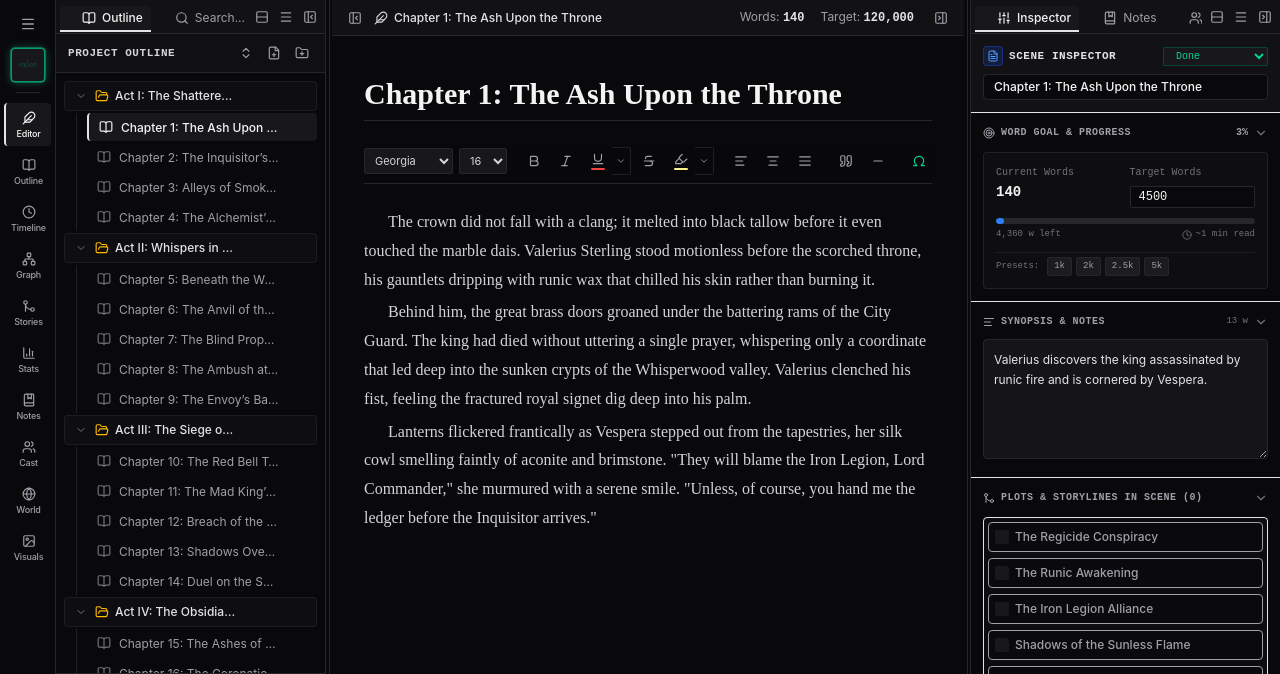
it: App Component › handles persistence error banner display and dismissal
Click the button named "File Menu": (28, 24) x1=14 y1=10 x2=42 y2=38
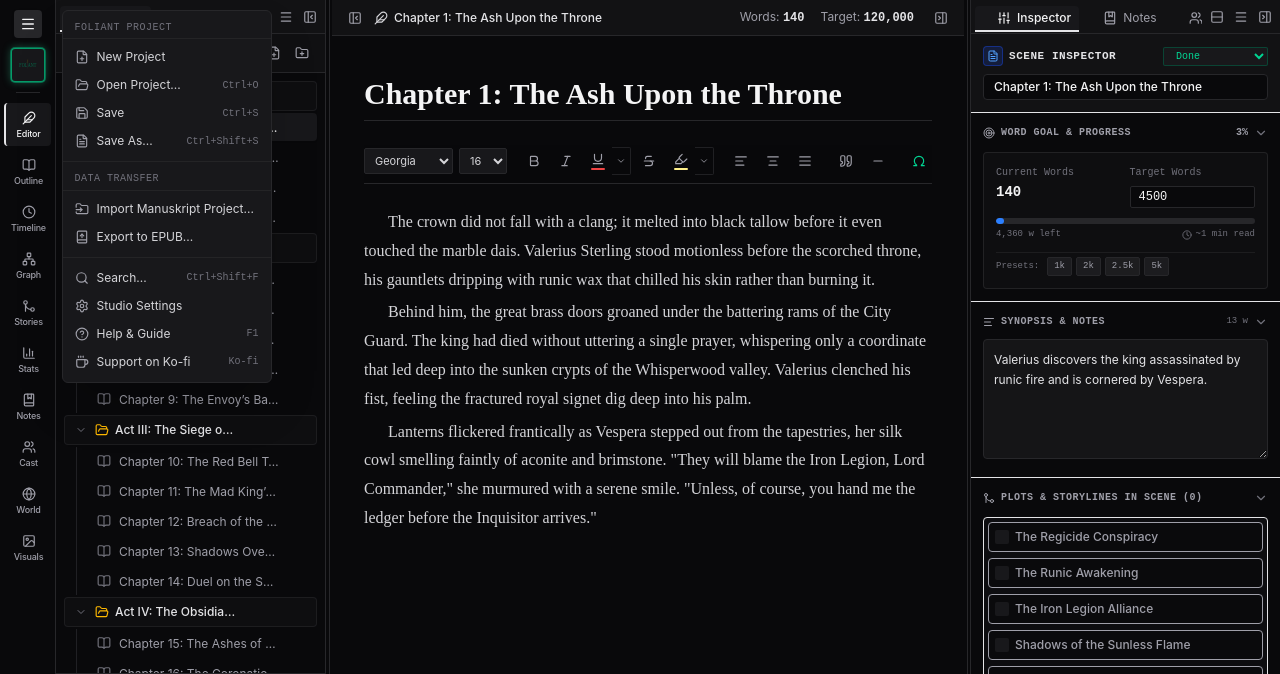
Click the text "Open Project...": (139, 85) x1=96 y1=77 x2=181 y2=93
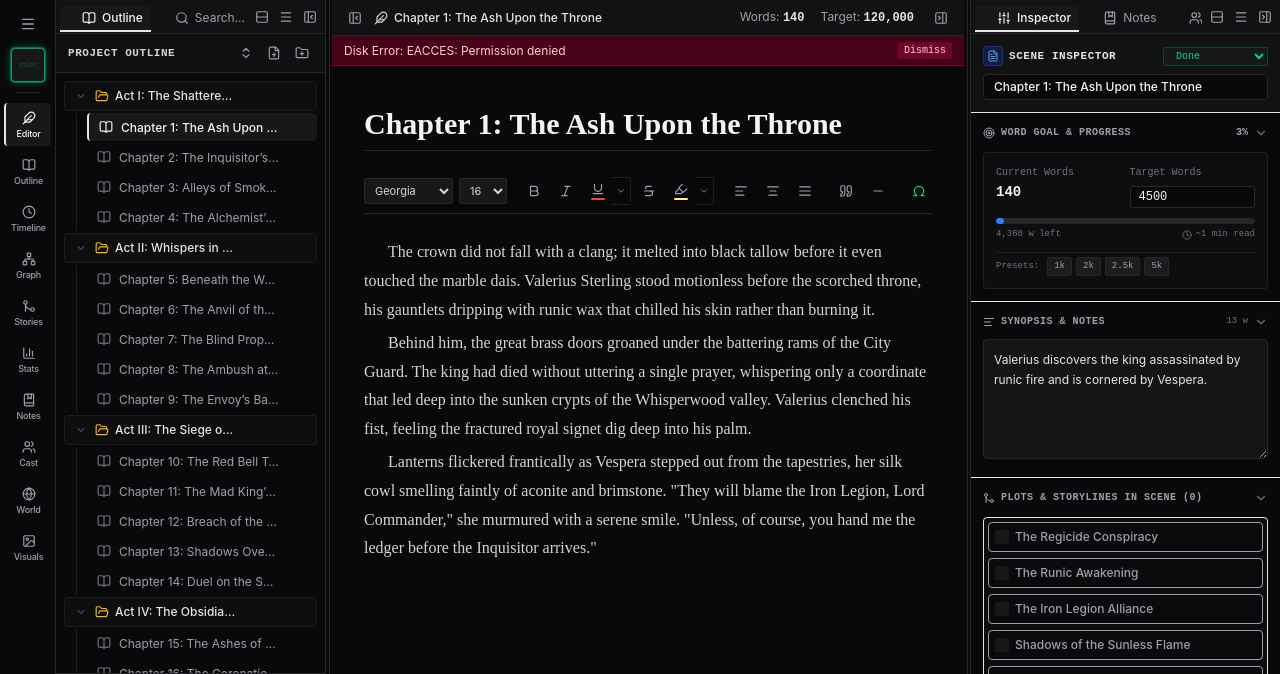
Result: the text "Disk Error: EACCES: Permission denied" is shown at x1=344 y1=43 x2=566 y2=59
// Dismiss banner
Click the button "Dismiss": (925, 51) x1=898 y1=42 x2=952 y2=59
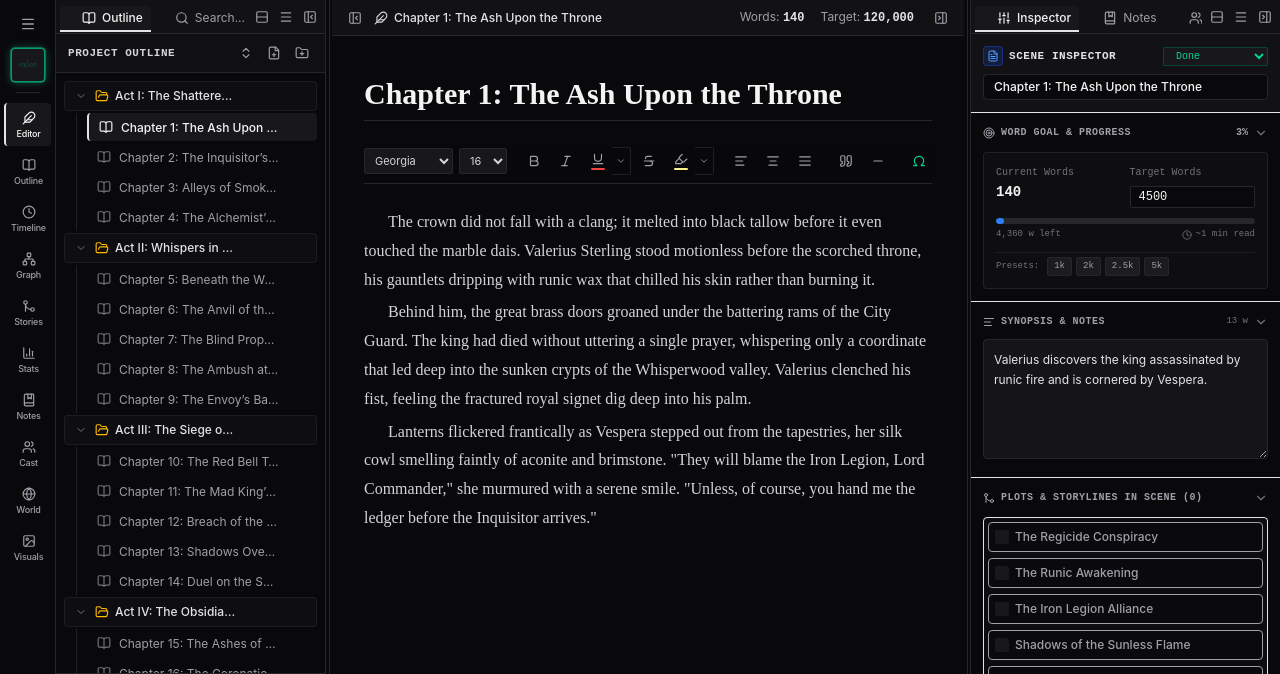
Result: the text "Permission denied" is gone
